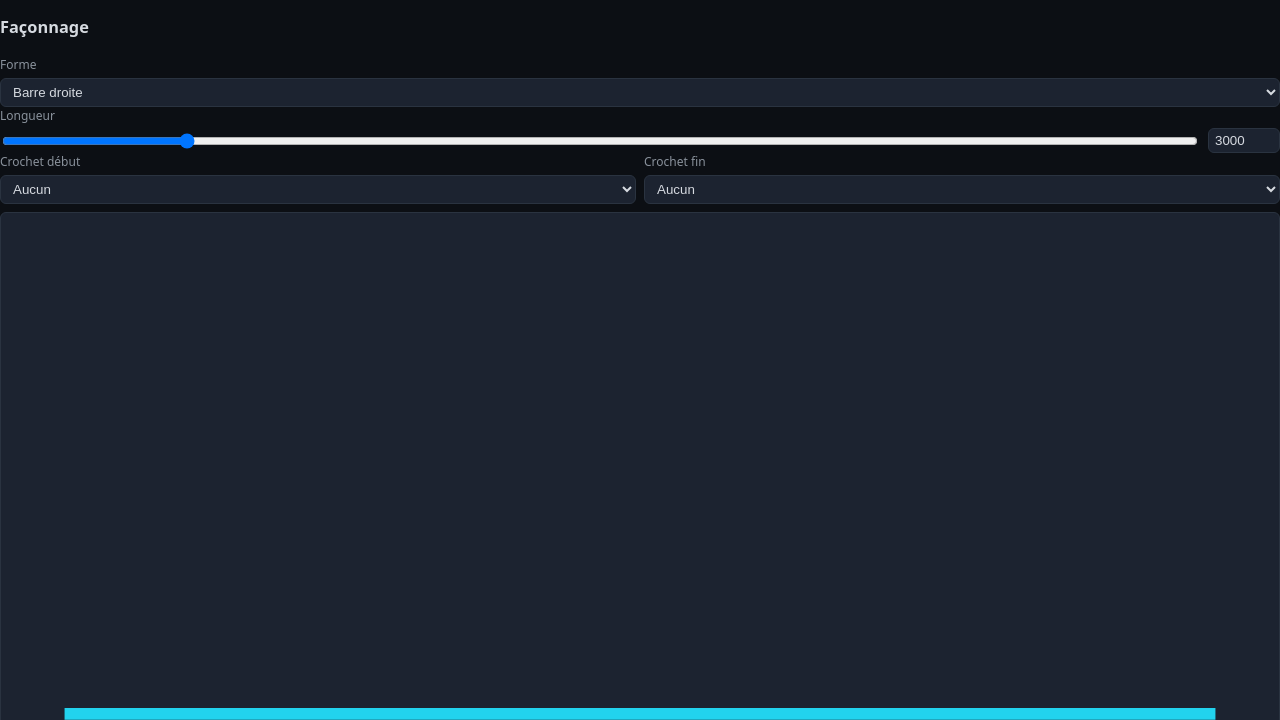
it: FaconnageEditor (F6) › an impossible param (all-zero length) shows an error and is NOT committed
Replace the text in the number field with "0" at (1244, 141), box [1208,128,1279,153]
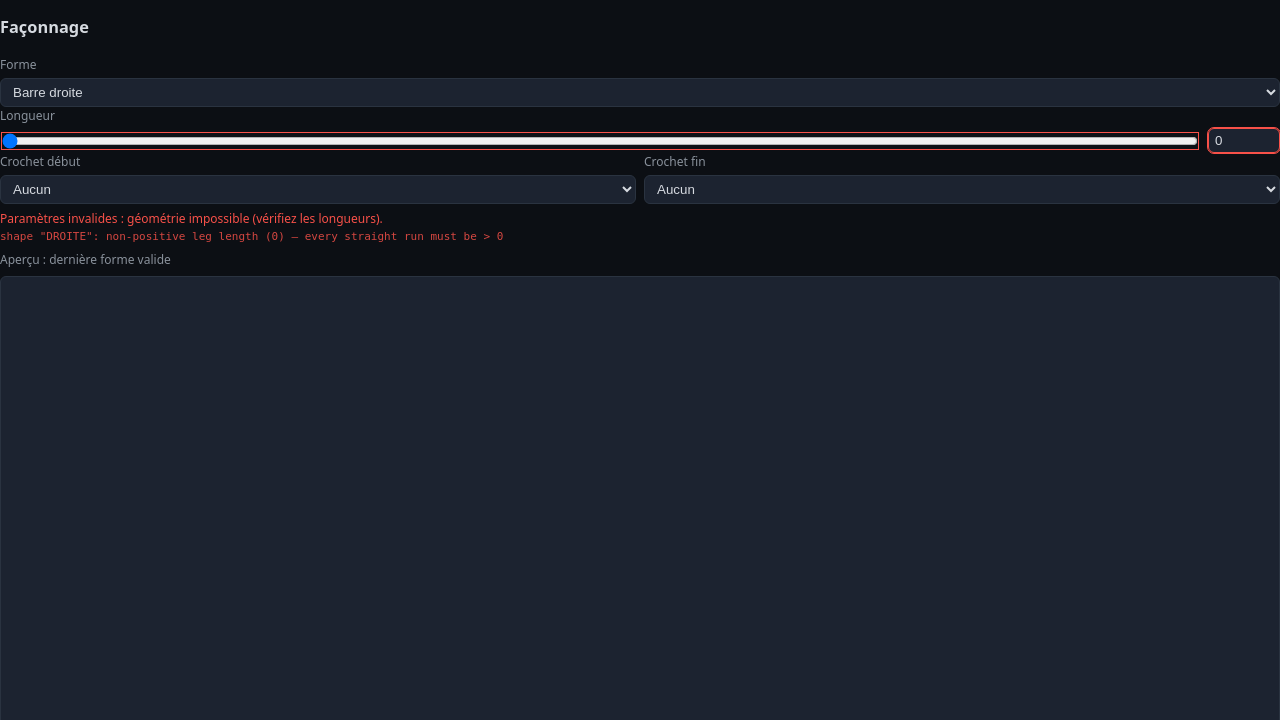
Now the message "Paramètres invalides : géométrie impossible (vérifiez les longueurs)." is shown, box [0,210,383,227]
